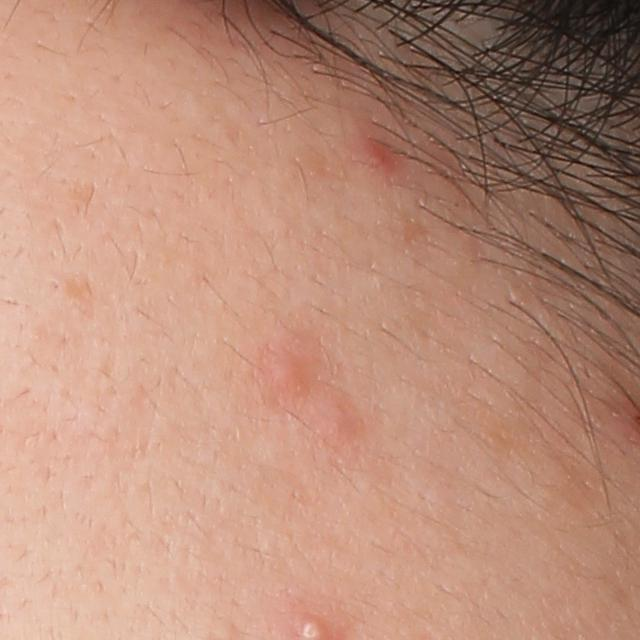papule: (267, 352, 320, 398), (362, 134, 399, 171)
